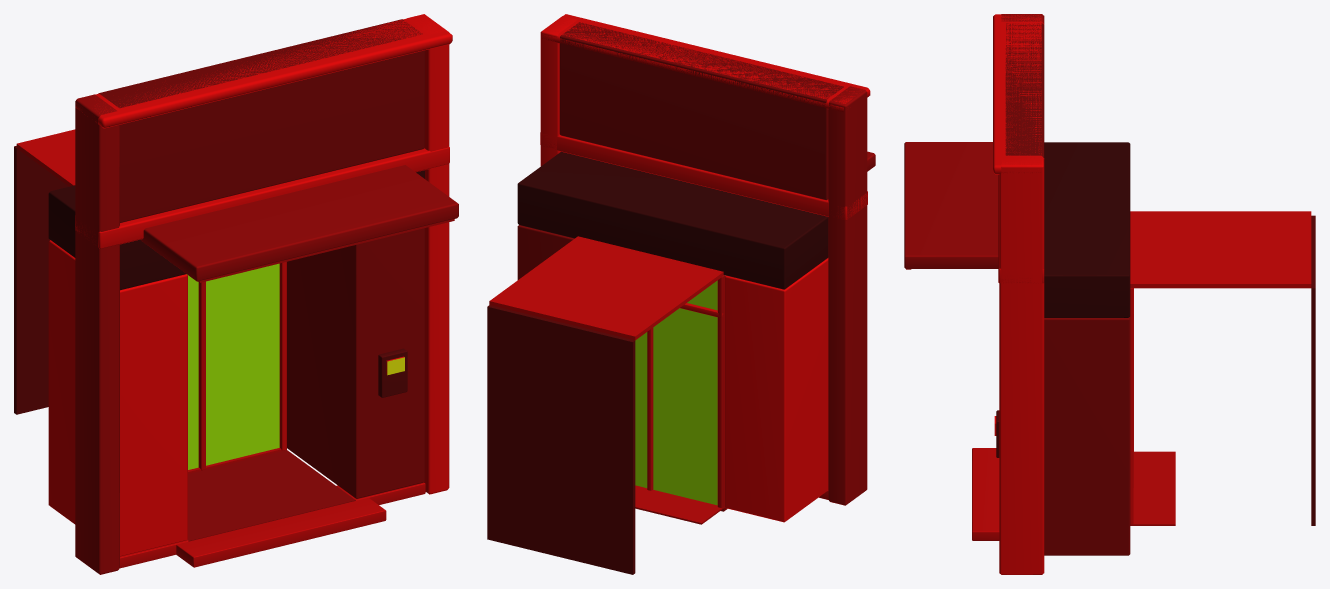
File: entry_a.glb
The picture shows the model from 3 angles, left to right: view 1: azimuth 30°, elevation 25°; view 2: azimuth 150°, elevation 25°; view 3: azimuth 270°, elevation 25°; orthographic projection. The views are drawn at different scales.
Visible parts, largest first — view 1: entry_a; view 2: entry_a; view 3: entry_a.
Boxes of the visible parts, bbox=[...] form: entry_a: bbox=[14, 14, 458, 574]; entry_a: bbox=[487, 14, 875, 574]; entry_a: bbox=[904, 14, 1315, 574].
Size of the model in its own units: 4 by 5 by 4.55.
